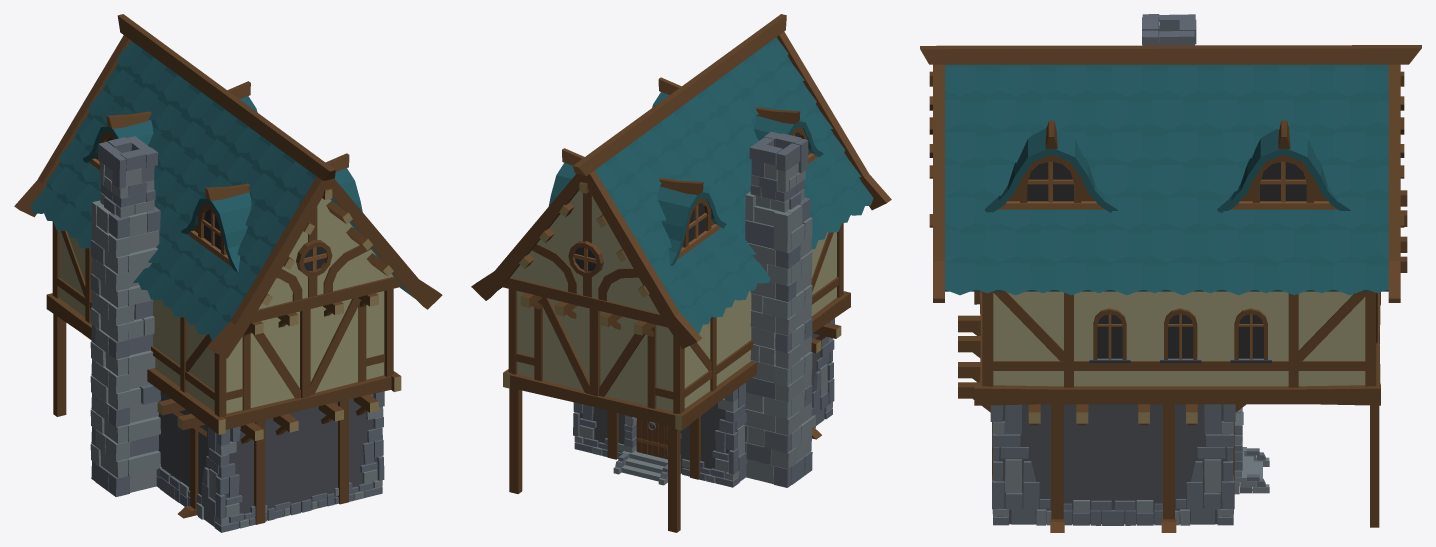
The model's file is q-fantasy-house-dcpho4sua3.glb.
3 renders of one model, left to right at view 1: azimuth 30°, elevation 25°; view 2: azimuth 150°, elevation 25°; view 3: azimuth 270°, elevation 25°, orthographic. The views are drawn at different scales.
Visible parts, largest first — view 1: House_2; view 2: House_2; view 3: House_2.
Part boxes in pixels (x1,y1,x2,y2): House_2: (14,14,442,532); House_2: (471,14,891,532); House_2: (920,14,1421,532).
Size of the model in its own units: 2.22 by 3.25 by 3.42.
